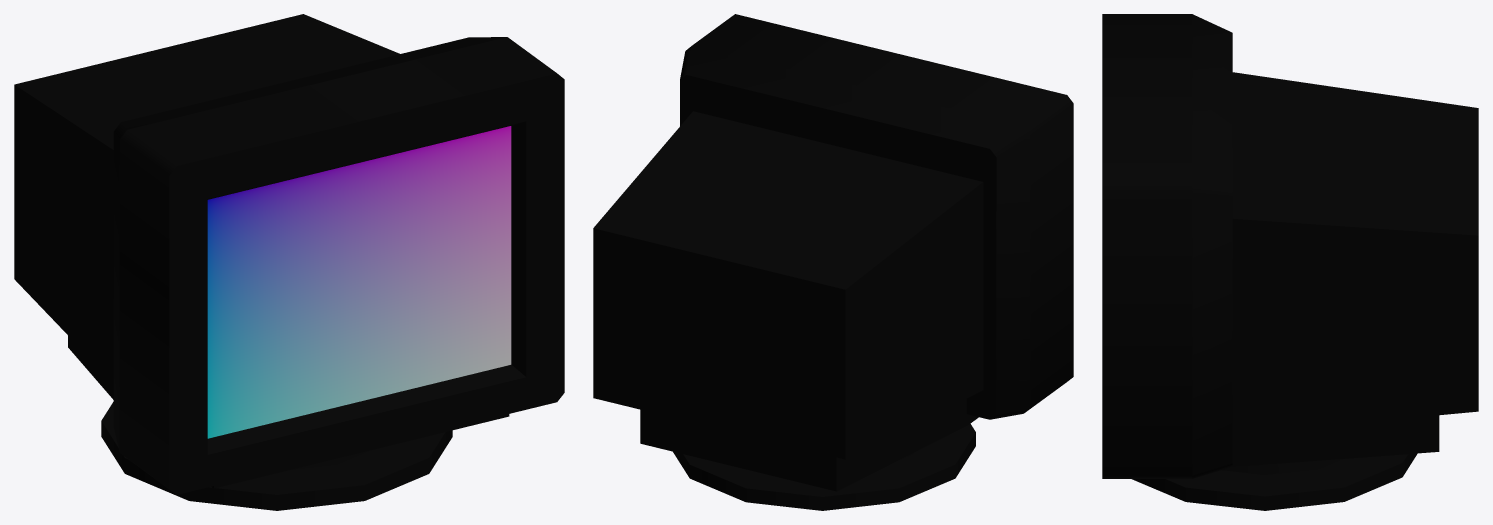
Rendered from ComputerMonitor.obj.
3 views of the same model, side by side, from view 1: azimuth 30°, elevation 25°; view 2: azimuth 150°, elevation 25°; view 3: azimuth 270°, elevation 25° (orthographic). The views are drawn at different scales.
Parts seen in each view (by area): view 1: ComputerMonitor; view 2: ComputerMonitor; view 3: ComputerMonitor.
Boxes of the visible parts, left/top/right/bottom form: ComputerMonitor: left=14, top=14, right=564, bottom=510; ComputerMonitor: left=593, top=14, right=1073, bottom=510; ComputerMonitor: left=1102, top=14, right=1478, bottom=510.
Bounding box in the file's own units: 0.4058 × 0.3756 × 0.3702.
